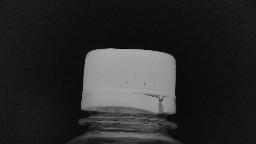Broken Ring: (127, 88, 177, 116)
Loose Cap: (72, 82, 182, 132)
